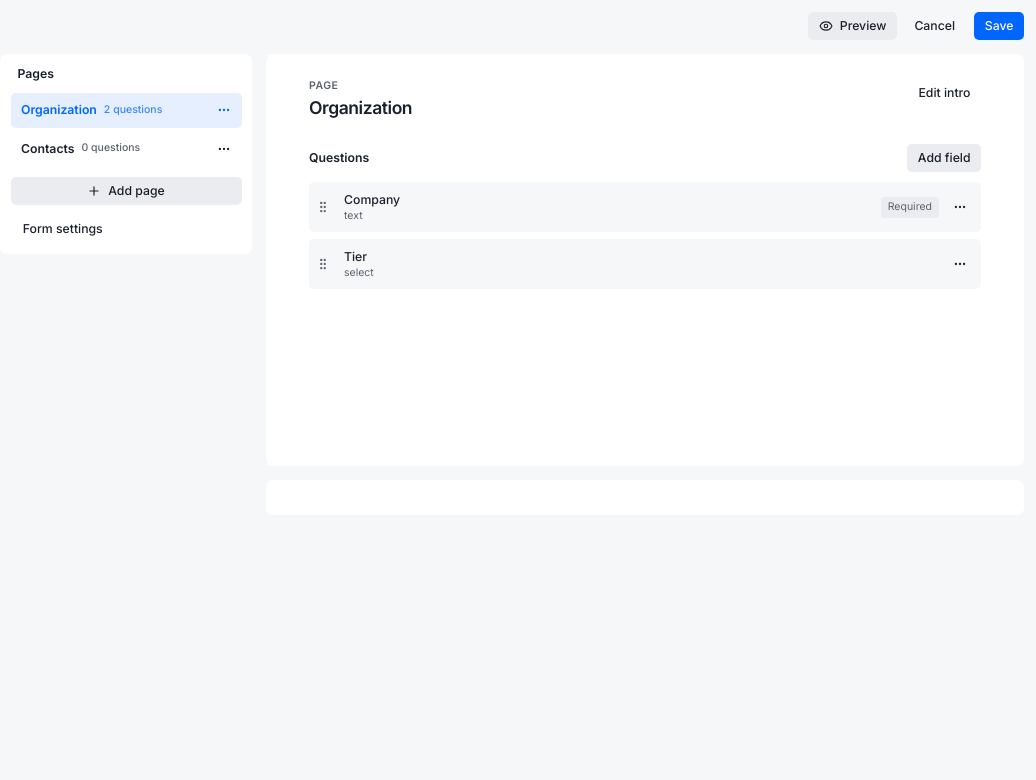
Portal form builder › uses organizer-owned pages, a focused inspector, and dedicated preview mode
Expected: the text "Organization" is shown, [21,101,97,119]
Expected: the text "Contacts" is shown, [21,140,74,158]
Click the button with aria-label "Edit Company" at (372, 200), box [337,188,874,227]
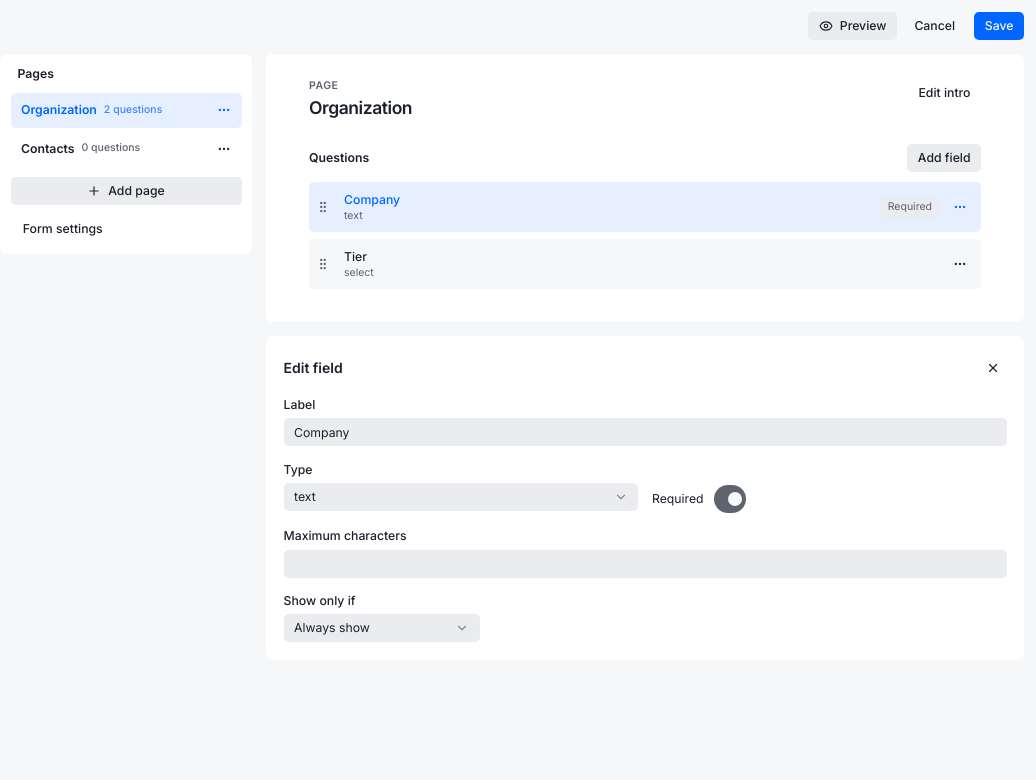
Replace the text in the field labelled "Label" with "Organization name" at (645, 432), box [284,418,1006,446]
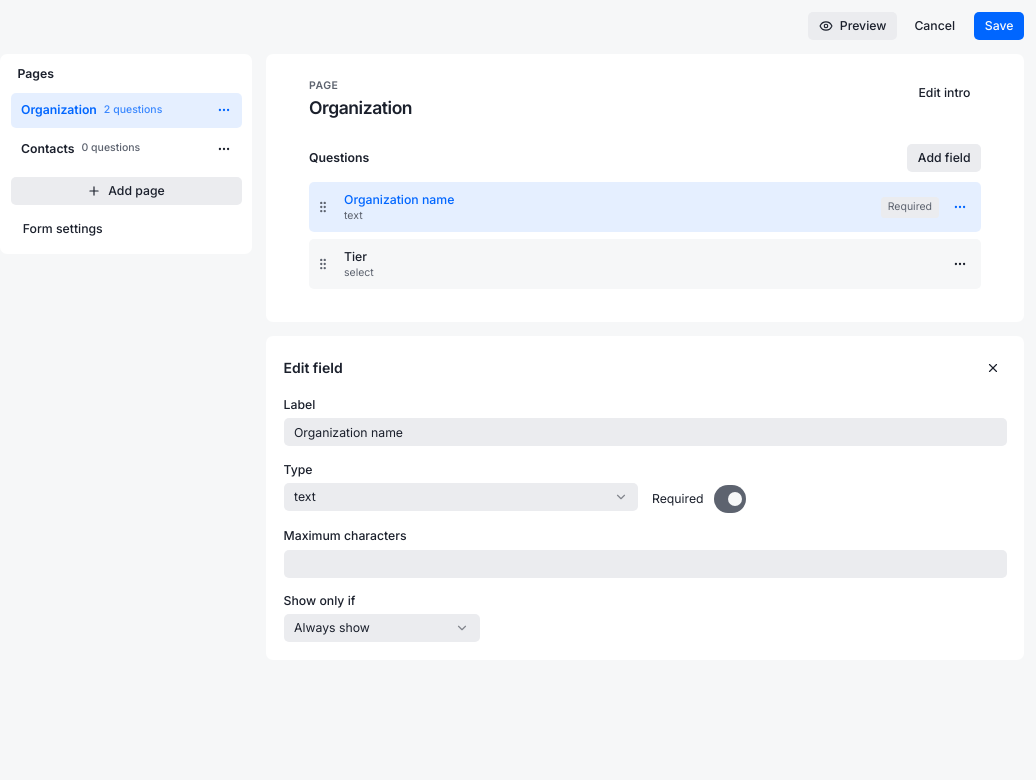
Expected: the button with aria-label "Edit Organization name" is shown, [337,188,874,227]
Click the button "Add page" at (126, 191), box [10,177,242,205]
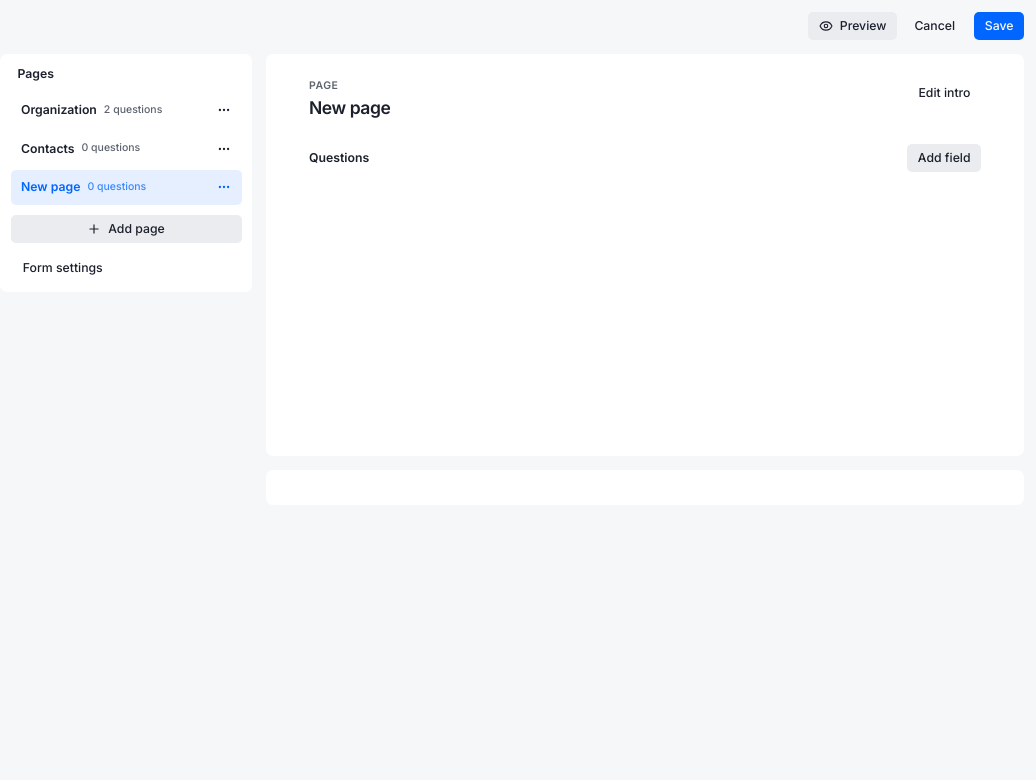
Expected: the text "New page" is shown, [21,178,80,196]
Click the button "Preview" at (853, 26), box [808,12,897,40]
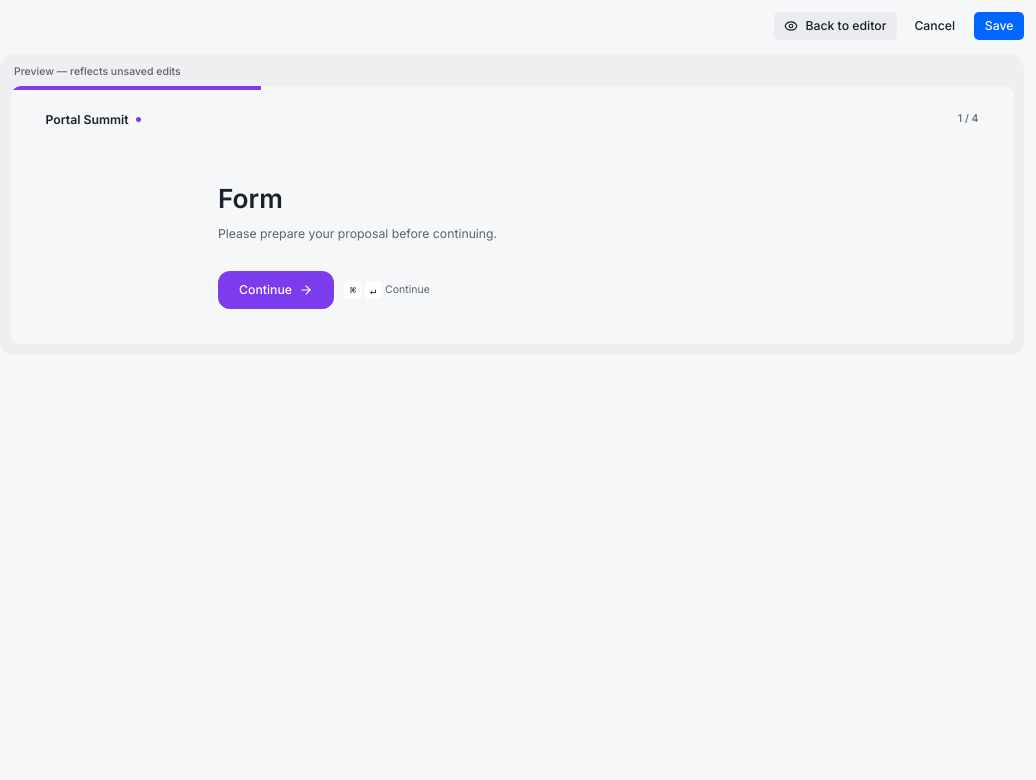
Expected: the element named "Call for proposals preview" is shown, [0,54,1024,355]
Expected: the element that starts with "Portal Summit" is shown, [10,86,1014,344]
Expected: the button "Back to editor" is shown, [774,12,897,40]
